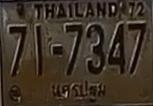1: (36, 25, 42, 77)
3: (86, 24, 104, 74)
4: (108, 23, 125, 73)
7: (8, 25, 26, 76), (128, 22, 146, 72), (66, 24, 82, 75)
NPT: (47, 78, 109, 104)
